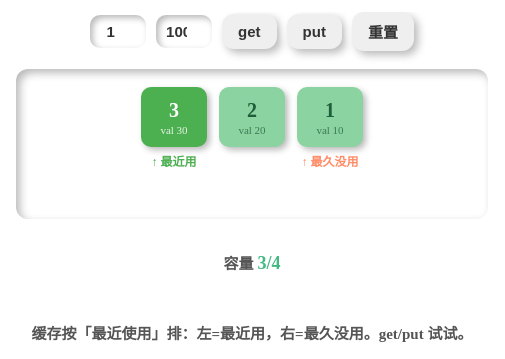
Test case: LruViz 缓存互动 › TC-VIZ-LRUVIZ-06 put 满后淘汰：填满再 put → status 含「淘汰」、cell 仍 4
The width and height of the screenshot is (505, 359).
Replace the text in the number field named "键" with "4" at (118, 32), box 90,15 -> 146,48
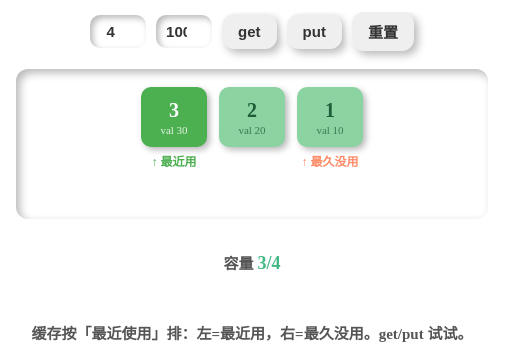
Replace the text in the number field named "值" with "40" at (184, 32), box 156,15 -> 212,48
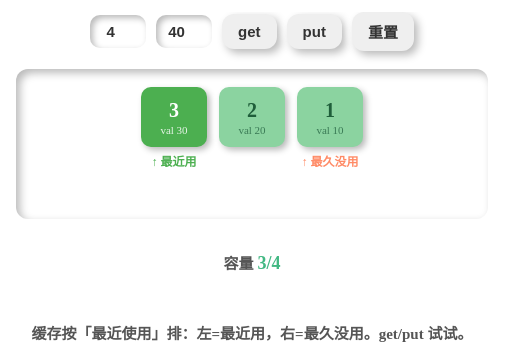
Click the button "put" at (314, 32), box 287,14 -> 342,49
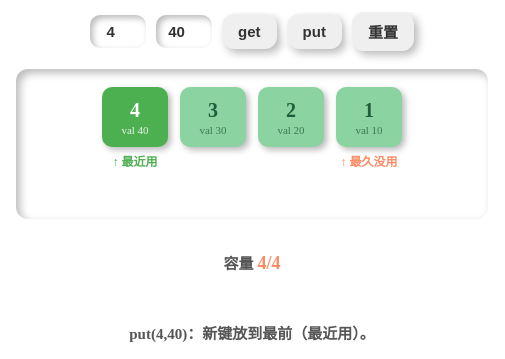
Replace the text in the number field named "键" with "5" at (118, 32), box 90,15 -> 146,48
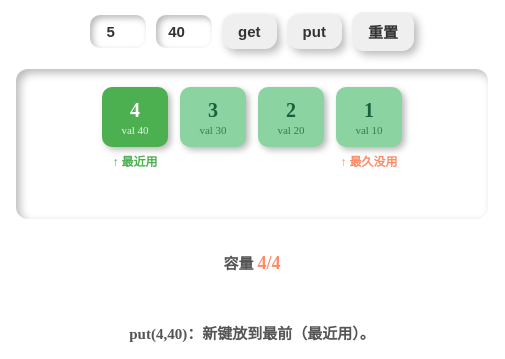
Replace the text in the number field named "值" with "50" at (184, 32), box 156,15 -> 212,48
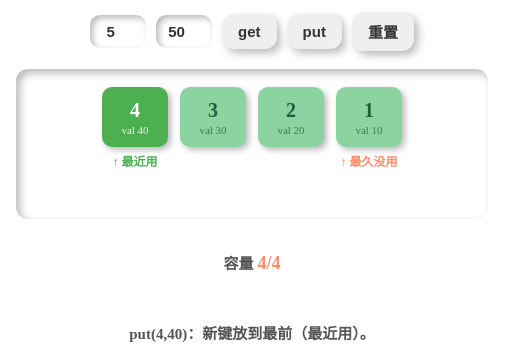
Click the button "put" at (314, 32), box 287,14 -> 342,49
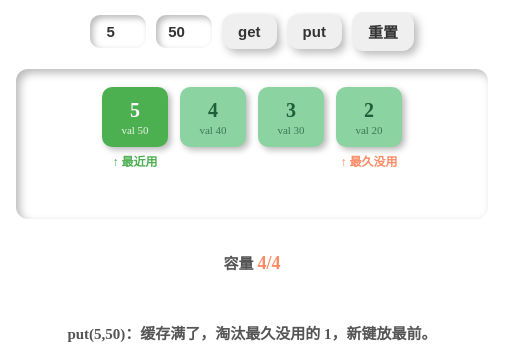
Expected: the number of elements with class "lru-cell" is 4, 102,87 -> 168,147; 180,87 -> 246,147; 258,87 -> 324,147; 336,87 -> 402,147
Expected: the message with class "status" shows "淘汰", 67,326 -> 437,342
